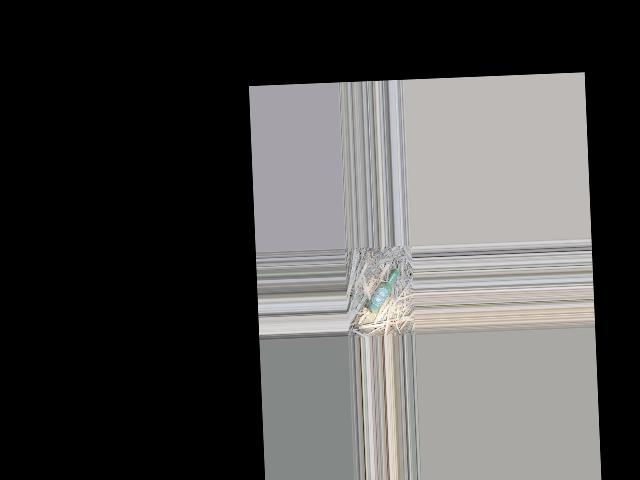beer: (363, 267, 400, 314)
